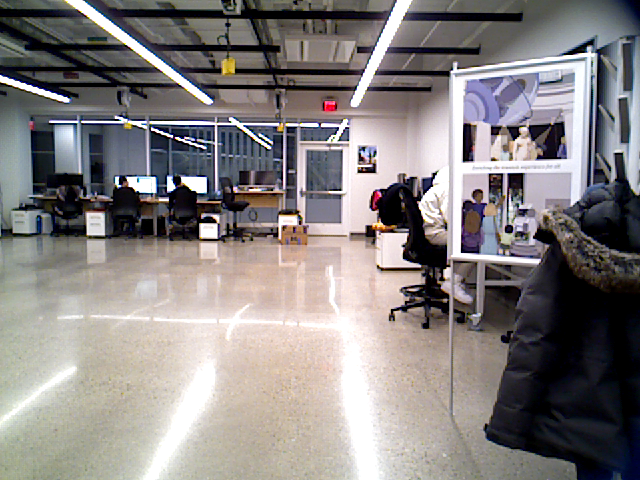painting3: (356, 144, 379, 173)
